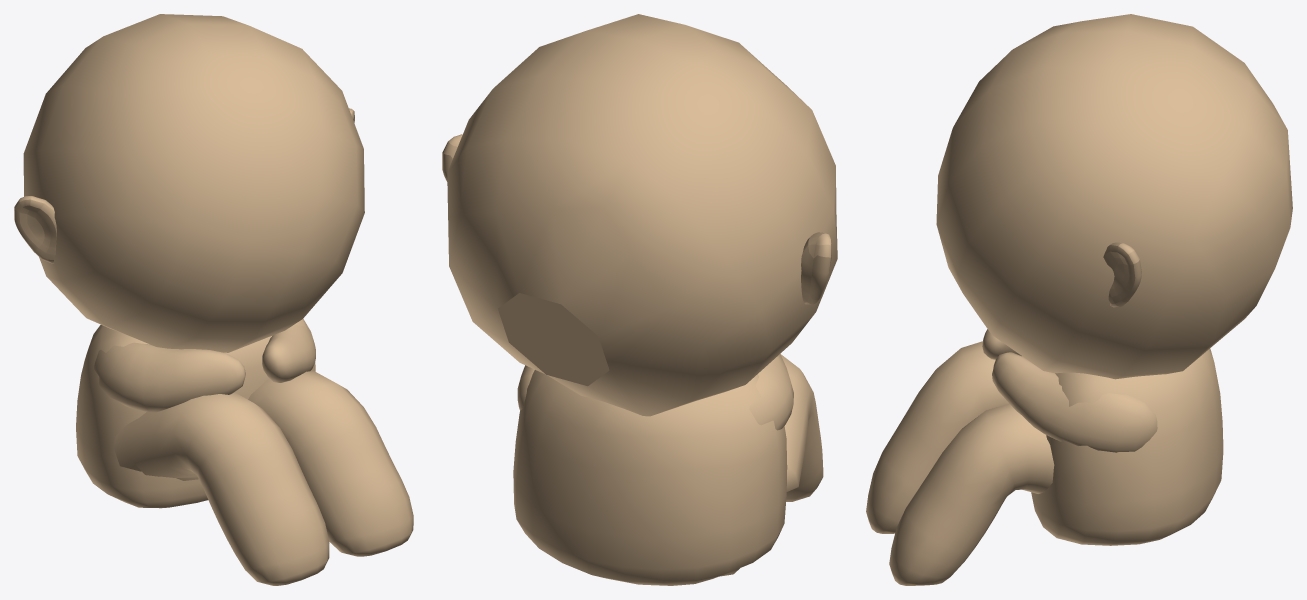
Rendered from embryo_baby.fbx.
3 views of the same model, side by side, from view 1: azimuth 30°, elevation 25°; view 2: azimuth 150°, elevation 25°; view 3: azimuth 270°, elevation 25° (orthographic). The views are drawn at different scales.
Parts seen in each view (by area): view 1: polySurface10, polySurface5, polySurface11, polySurface6, polySurface7, polySurface8, polySurface3; view 2: polySurface10, polySurface6, polySurface5, polySurface7, polySurface3; view 3: polySurface10, polySurface6, polySurface11, polySurface5, polySurface8, polySurface9.
Part boxes in pixels (x1,y1,x2,y2): polySurface10: [23, 14, 364, 352]; polySurface5: [113, 392, 329, 585]; polySurface11: [248, 371, 413, 556]; polySurface6: [76, 319, 315, 508]; polySurface7: [94, 342, 245, 412]; polySurface8: [262, 319, 315, 382]; polySurface3: [14, 196, 56, 263]; polySurface10: [447, 14, 837, 416]; polySurface6: [513, 370, 787, 585]; polySurface5: [719, 354, 823, 576]; polySurface7: [749, 354, 793, 430]; polySurface3: [801, 232, 831, 304]; polySurface10: [936, 14, 1292, 379]; polySurface6: [1031, 348, 1223, 545]; polySurface11: [889, 403, 1054, 585]; polySurface5: [866, 341, 1008, 533]; polySurface8: [992, 352, 1157, 452]; polySurface9: [1103, 242, 1141, 307].
Size of the model in its own units: 0.7727 by 0.7539 by 1.01.
